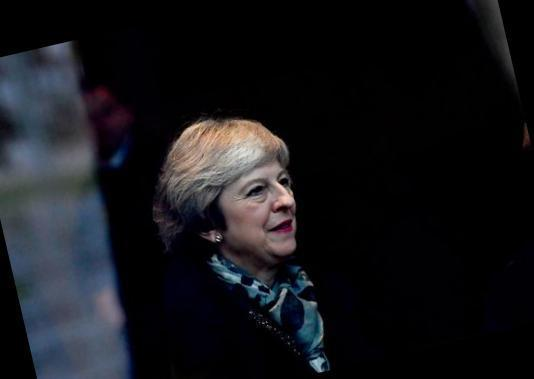Sober: (223, 157, 300, 257)
